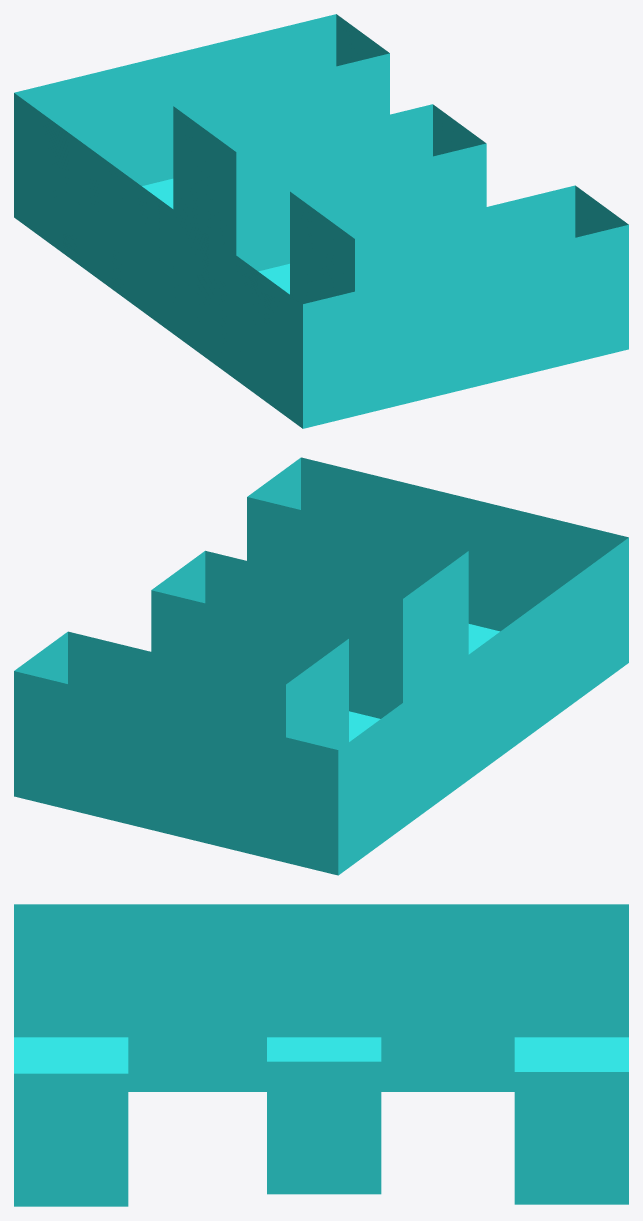
File: original-5.obj
The picture shows the model from 3 angles, top to bottom: view 1: azimuth 30°, elevation 25°; view 2: azimuth 150°, elevation 25°; view 3: azimuth 270°, elevation 25°; orthographic projection. The views are drawn at different scales.
Parts seen in each view (by area): view 1: #ID25; view 2: #ID25; view 3: #ID25.
Boxes of the visible parts, x1,y1,x2,y2 form: #ID25: [14, 14, 628, 428]; #ID25: [14, 457, 628, 875]; #ID25: [14, 904, 628, 1206].
Bounding box in the file's own units: 0.0106 × 0.00387 × 0.0163.
